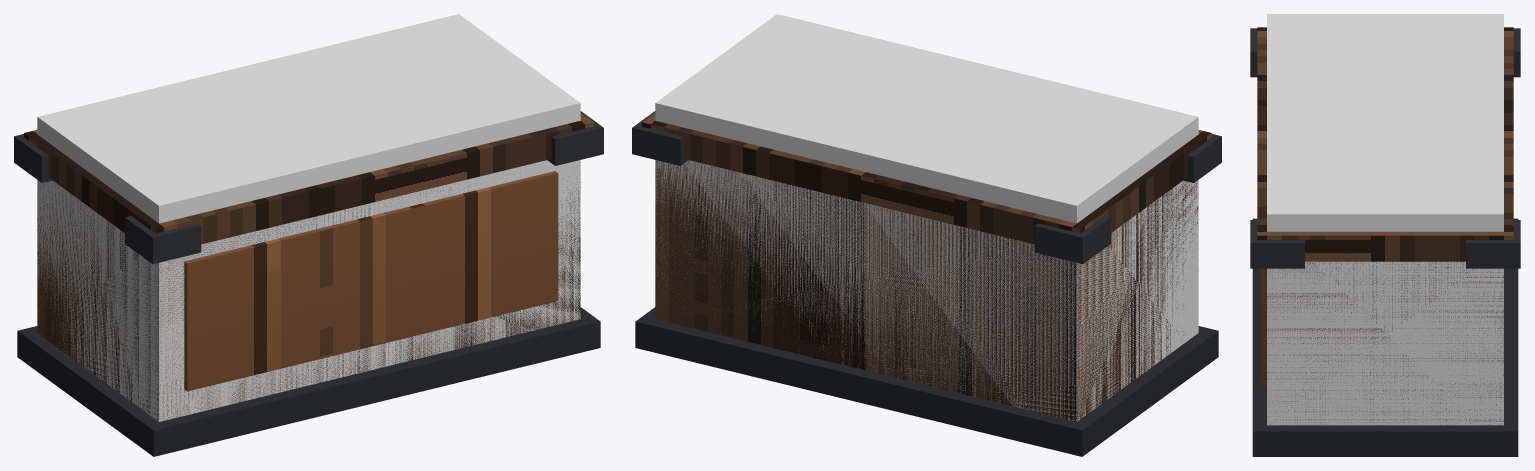
Rendered from JP_Prop_SaisenBako_A.glb.
3 renders of one model, left to right at view 1: azimuth 30°, elevation 25°; view 2: azimuth 150°, elevation 25°; view 3: azimuth 270°, elevation 25°, orthographic. The views are drawn at different scales.
Parts seen in each view (by area): view 1: JP_Prop_SaisenBako_A, COL_JP_Prop_SaisenBako_A; view 2: COL_JP_Prop_SaisenBako_A, JP_Prop_SaisenBako_A; view 3: COL_JP_Prop_SaisenBako_A, JP_Prop_SaisenBako_A.
Part boxes in pixels (<box>): JP_Prop_SaisenBako_A: <box>14,111,603,456</box>; COL_JP_Prop_SaisenBako_A: <box>37,14,580,421</box>; COL_JP_Prop_SaisenBako_A: <box>655,14,1198,421</box>; JP_Prop_SaisenBako_A: <box>632,111,1221,456</box>; COL_JP_Prop_SaisenBako_A: <box>1267,14,1503,425</box>; JP_Prop_SaisenBako_A: <box>1250,27,1520,456</box>.
Size of the model in its own units: 1.07 by 0.55 by 0.57.
Materials: 4 (4 with a texture image).
